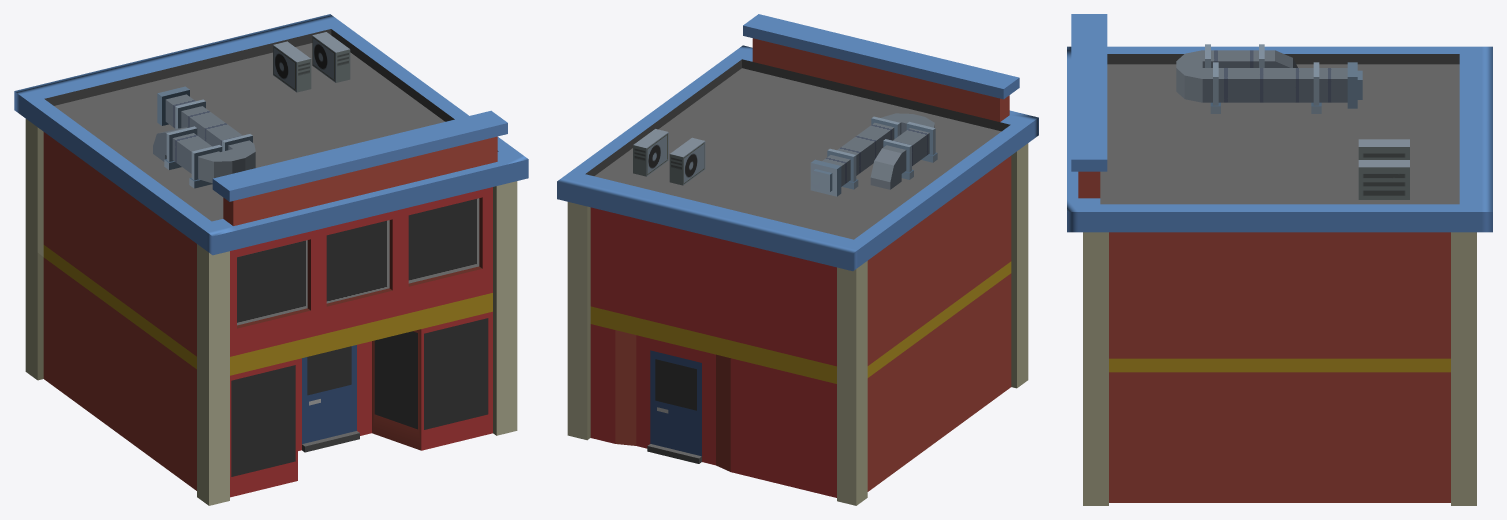
File: shop5.obj
3 renders of one model, left to right at view 1: azimuth 30°, elevation 25°; view 2: azimuth 150°, elevation 25°; view 3: azimuth 270°, elevation 25°, orthographic. The views are drawn at different scales.
Visible parts, largest first — view 1: ST_Building_Shop_05_Untitled.001; view 2: ST_Building_Shop_05_Untitled.001; view 3: ST_Building_Shop_05_Untitled.001.
Boxes of the visible parts, x1=… form: ST_Building_Shop_05_Untitled.001: x1=14, y1=14, x2=528, y2=505; ST_Building_Shop_05_Untitled.001: x1=557, y1=14, x2=1038, y2=505; ST_Building_Shop_05_Untitled.001: x1=1067, y1=14, x2=1492, y2=505.
Bounding box in the file's own units: 10.92 × 10.41 × 11.88.
